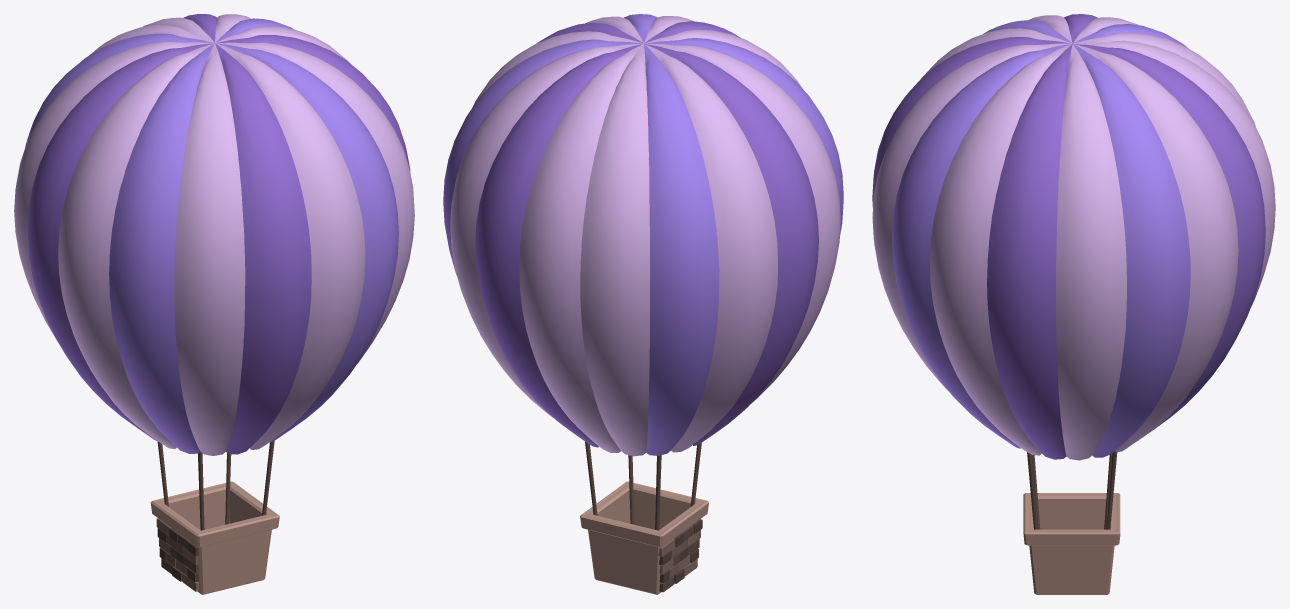
Rendered from balloon_purple_d.glb.
3 renders of one model, left to right at view 1: azimuth 30°, elevation 25°; view 2: azimuth 150°, elevation 25°; view 3: azimuth 270°, elevation 25°, orthographic.
Visible parts, largest first — view 1: 球.001, 立方体.002; view 2: 球.001, 立方体.002; view 3: 球.001, 立方体.002.
Part boxes in pixels (x1,y1,x2,y2): 球.001: (14, 14, 414, 455); 立方体.002: (150, 481, 279, 594); 球.001: (443, 14, 843, 456); 立方体.002: (580, 481, 708, 594); 球.001: (872, 14, 1275, 460); 立方体.002: (1023, 493, 1120, 594).
Size of the model in its own units: 1.9 by 2.78 by 1.89.
